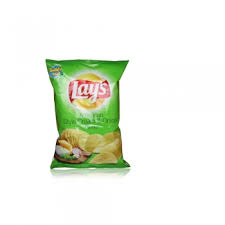lays-small: (44, 59, 130, 171)
